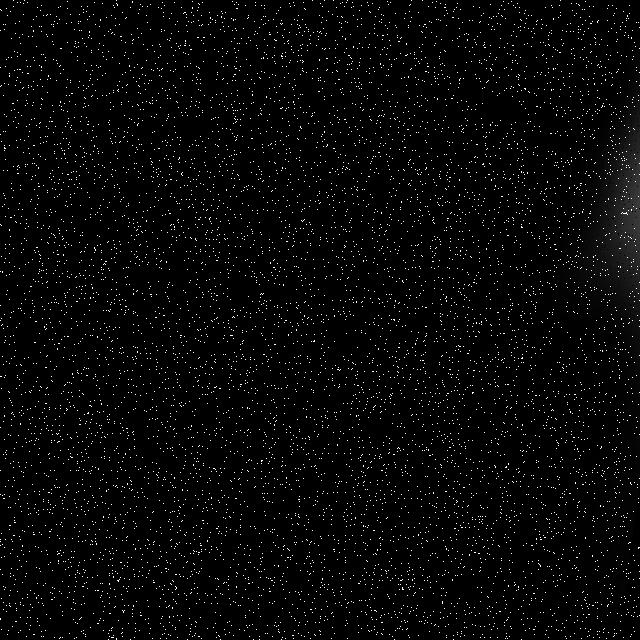person: (487, 27, 640, 468)
